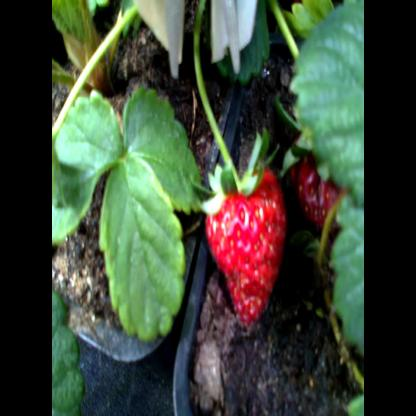ripe: (198, 163, 297, 326), (296, 127, 366, 235)
